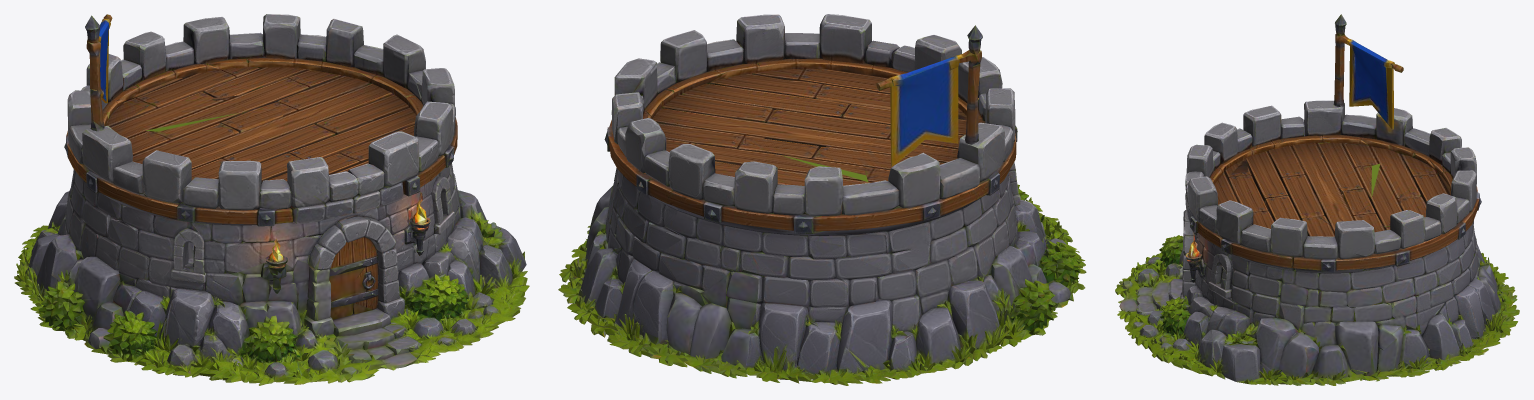
File: outpost_watchtower.glb
3 views of the same model, side by side, from view 1: azimuth 30°, elevation 25°; view 2: azimuth 150°, elevation 25°; view 3: azimuth 270°, elevation 25° (orthographic). The views are drawn at different scales.
Bounding box in the file's own units: 1.87 × 1.18 × 1.9.
1 material, 1 textured.
